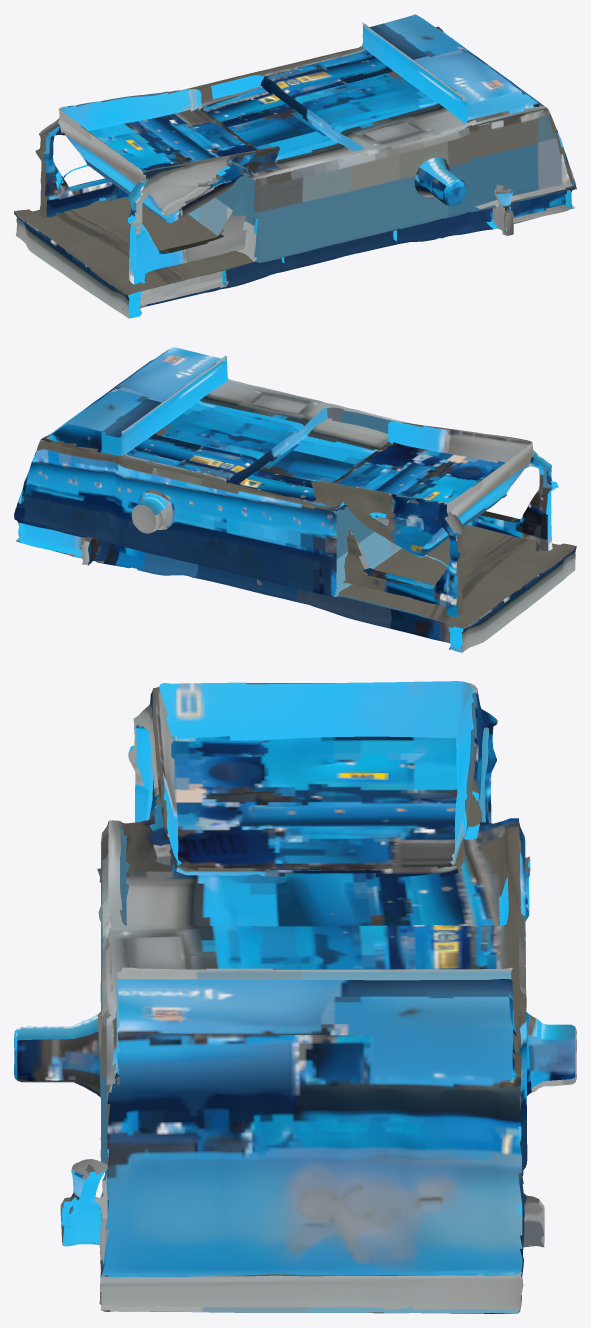
The model's file is ECS_Medium3.fbx.
3 renders of one model, top to bottom at view 1: azimuth 30°, elevation 25°; view 2: azimuth 150°, elevation 25°; view 3: azimuth 270°, elevation 25°, orthographic. The views are drawn at different scales.
Parts seen in each view (by area): view 1: ECS_Medium; view 2: ECS_Medium; view 3: ECS_Medium.
Part boxes in pixels (bbox=[...]): ECS_Medium: bbox=[14, 14, 576, 318]; ECS_Medium: bbox=[14, 347, 576, 652]; ECS_Medium: bbox=[14, 681, 576, 1313].
Size of the model in its own units: 190 by 54.61 by 109.
